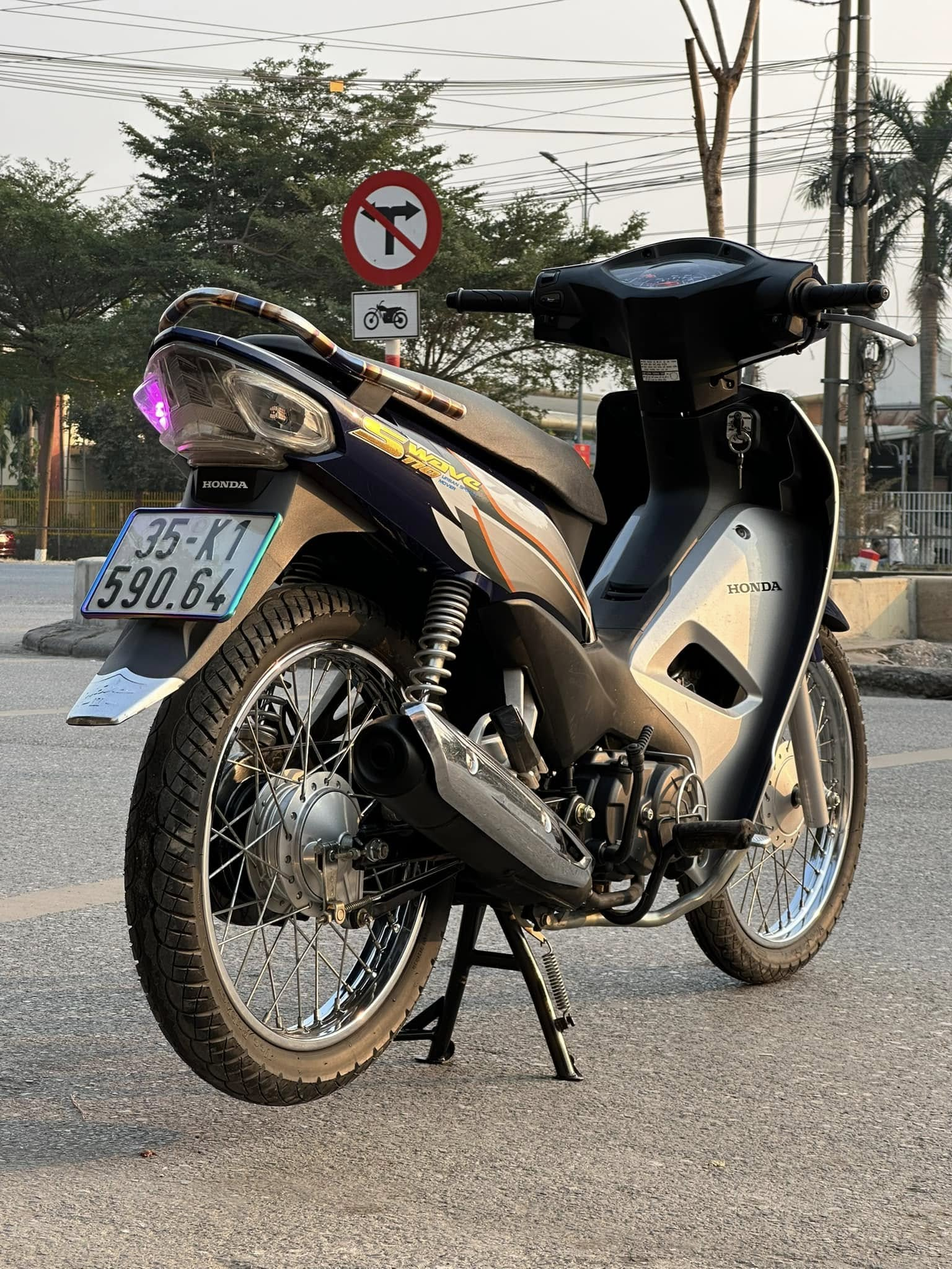bien_so: (71, 486, 290, 640)
